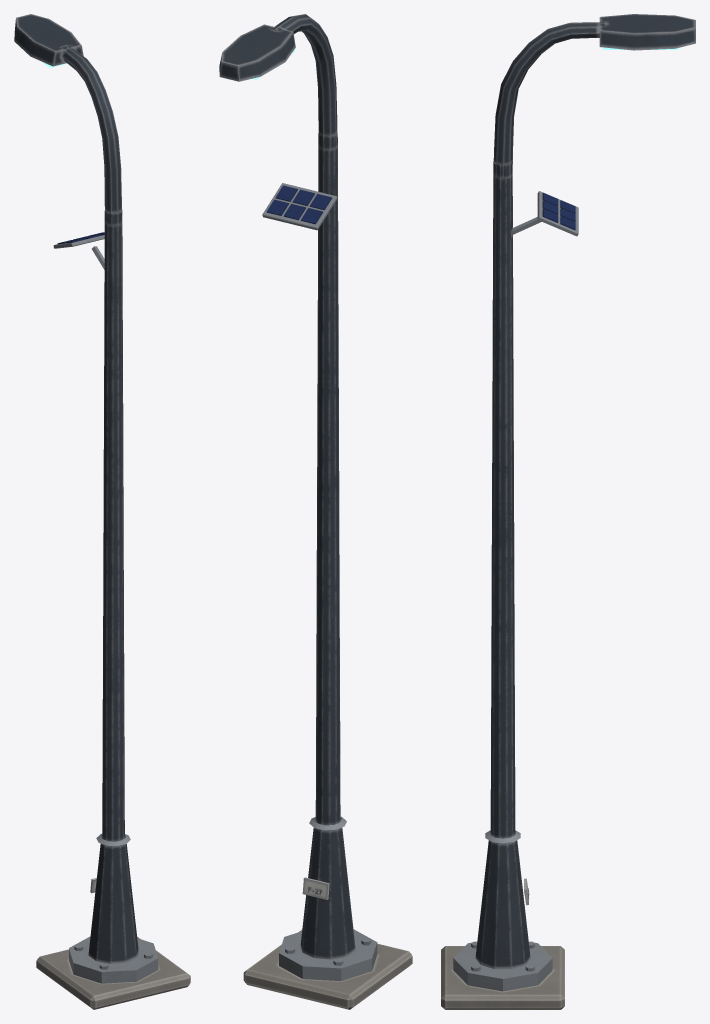
Rendered from farola_residencial.fbx.
The picture shows the model from 3 angles, left to right: view 1: azimuth 30°, elevation 25°; view 2: azimuth 150°, elevation 25°; view 3: azimuth 270°, elevation 25°; orthographic projection. The views are drawn at different scales.
Parts seen in each view (by area): view 1: farola_residencial; view 2: farola_residencial; view 3: farola_residencial.
Boxes of the visible parts, left/top/right/bottom form: farola_residencial: left=14, top=14, right=190, bottom=1009; farola_residencial: left=219, top=14, right=412, bottom=1009; farola_residencial: left=441, top=14, right=695, bottom=1009.
Bounding box in the file's own units: 0.9 × 7.71 × 1.85.
Materials: 2 (1 with a texture image).
